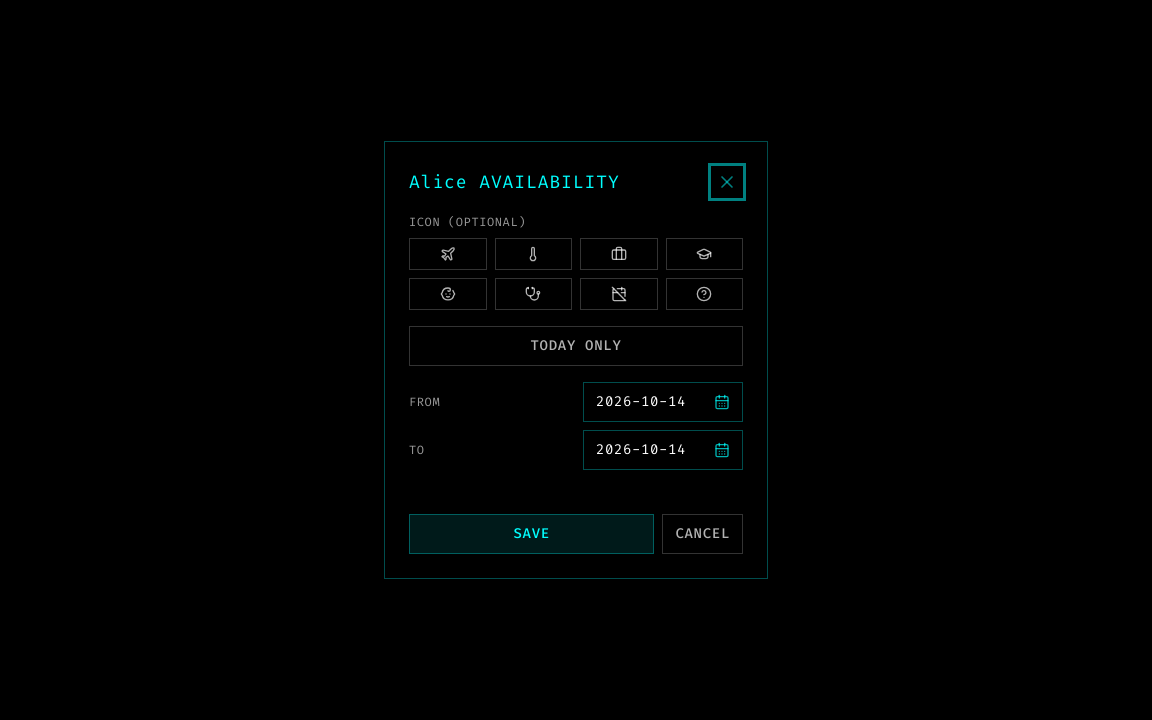
Test: UnavailabilityDialog › should show the PTO tooltip on focus
Focus the button named "PTO": (619, 294) [580, 278, 658, 310]
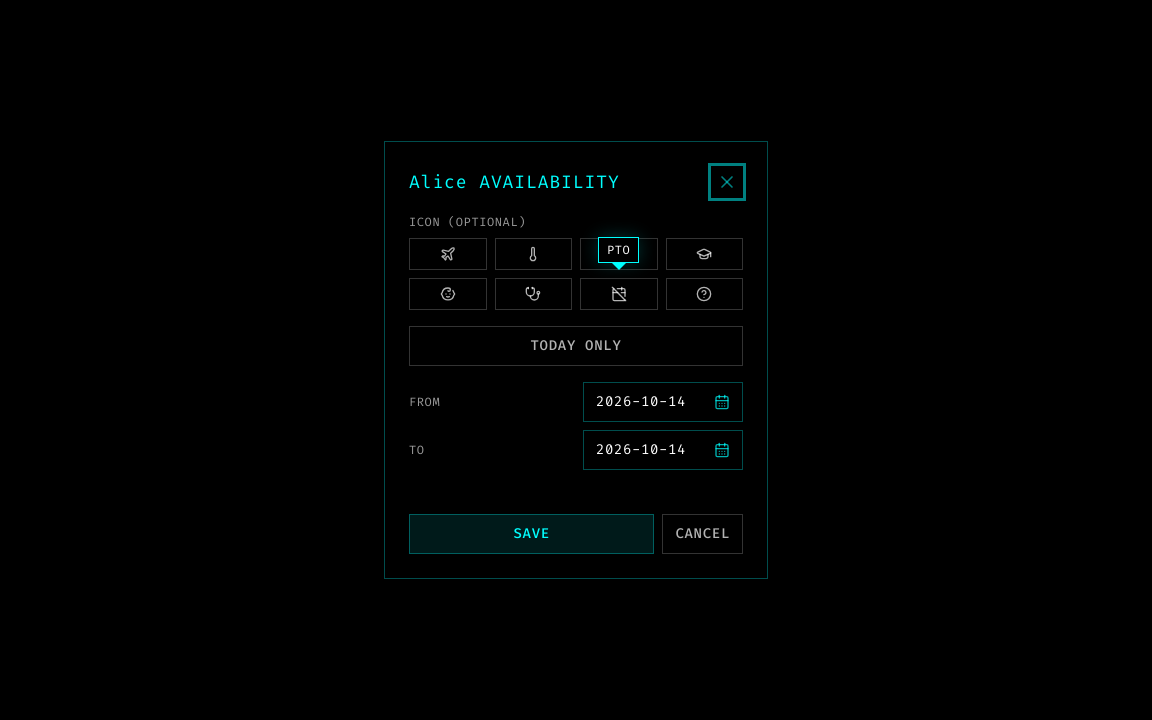
expect the tooltip reads "PTO": met, box [607, 242, 630, 258]
